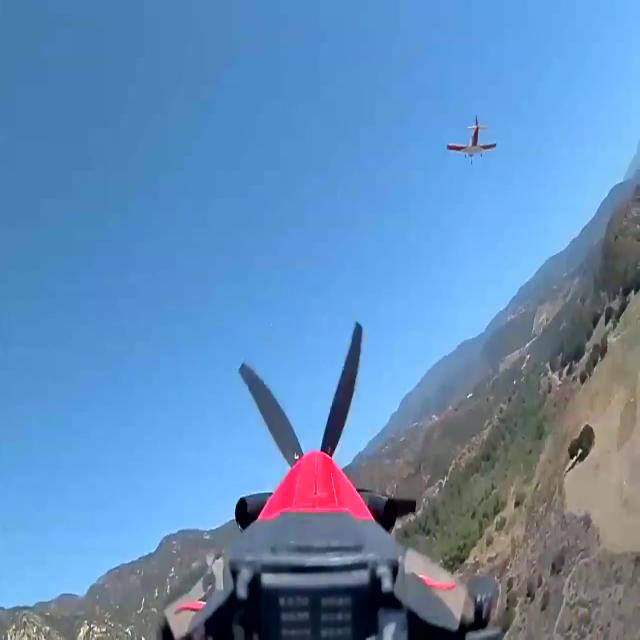iha: (445, 106, 498, 160)
